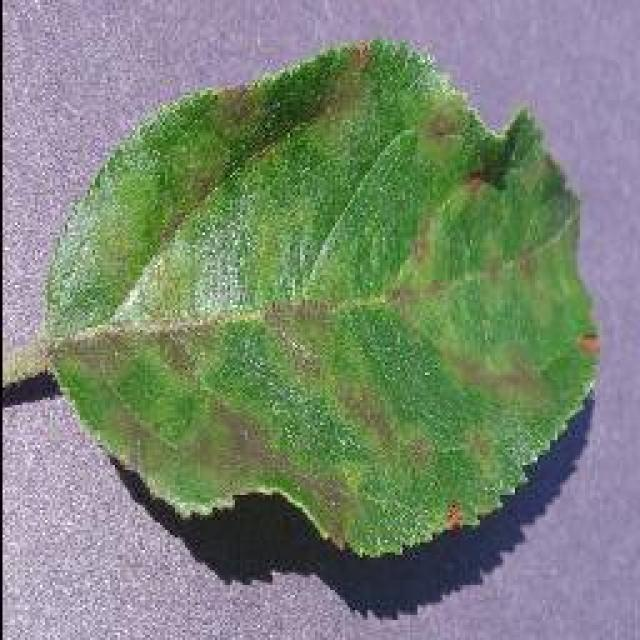apple scab disease: (35, 35, 603, 560)
